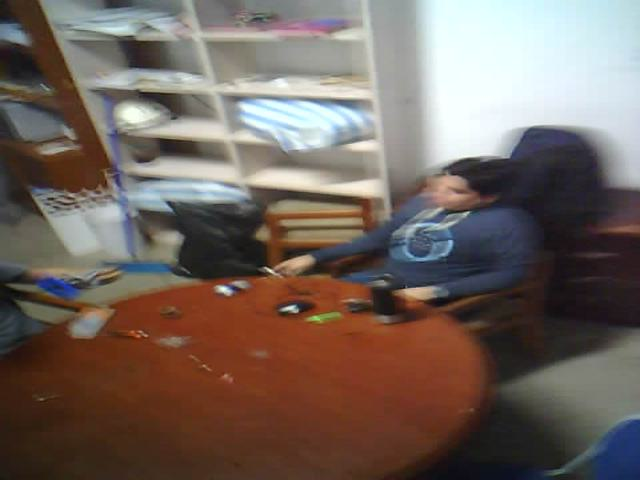person: (223, 103, 575, 321), (0, 192, 155, 365)
